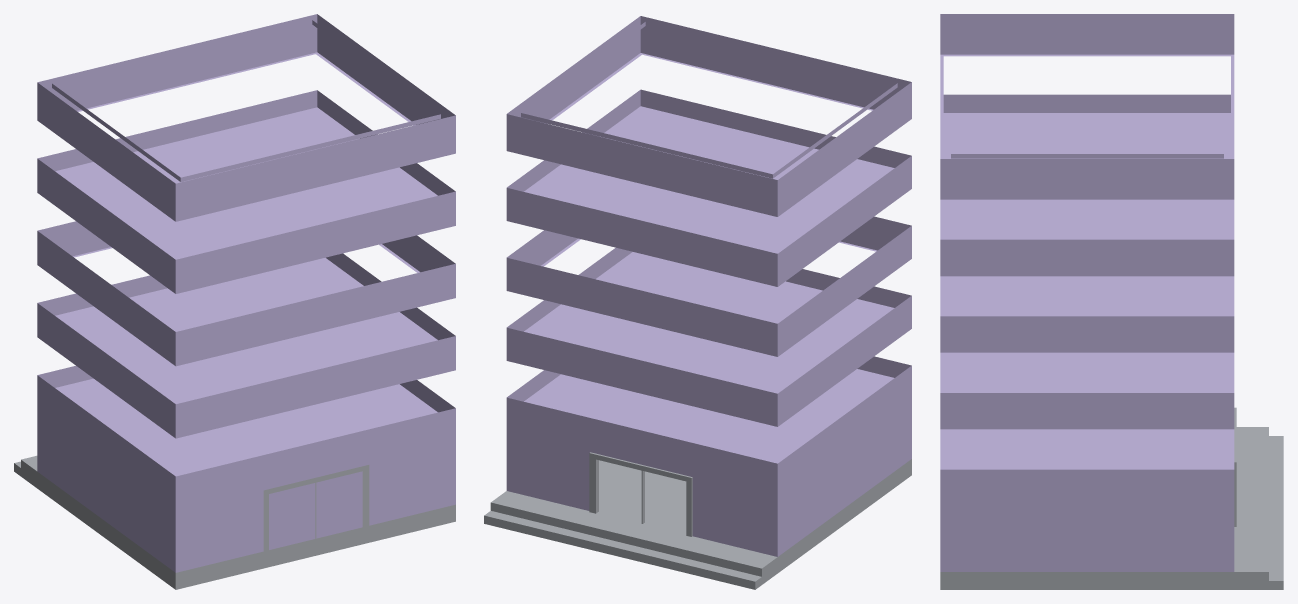
Rendered from Bld_C_high_L4_A.fbx.
3 renders of one model, left to right at view 1: azimuth 30°, elevation 25°; view 2: azimuth 150°, elevation 25°; view 3: azimuth 270°, elevation 25°, orthographic. The views are drawn at different scales.
Parts seen in each view (by area): view 1: Bld_C_high_L4_A_LOD0; view 2: Bld_C_high_L4_A_LOD0; view 3: Bld_C_high_L4_A_LOD0.
Boxes of the visible parts, x1,y1,x2,y2 form: Bld_C_high_L4_A_LOD0: [14, 14, 455, 589]; Bld_C_high_L4_A_LOD0: [484, 16, 911, 589]; Bld_C_high_L4_A_LOD0: [940, 14, 1283, 589].
Size of what is drawn, in the model's own units: 2100 by 3429 by 2100.
1 material, 1 textured.
